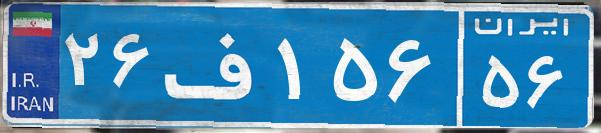1: (273, 28, 330, 110)
2: (57, 26, 110, 107)
5: (330, 28, 385, 110), (475, 38, 525, 113)
6: (385, 28, 445, 110), (110, 28, 158, 105), (525, 38, 570, 115)
ف: (158, 15, 273, 115)
